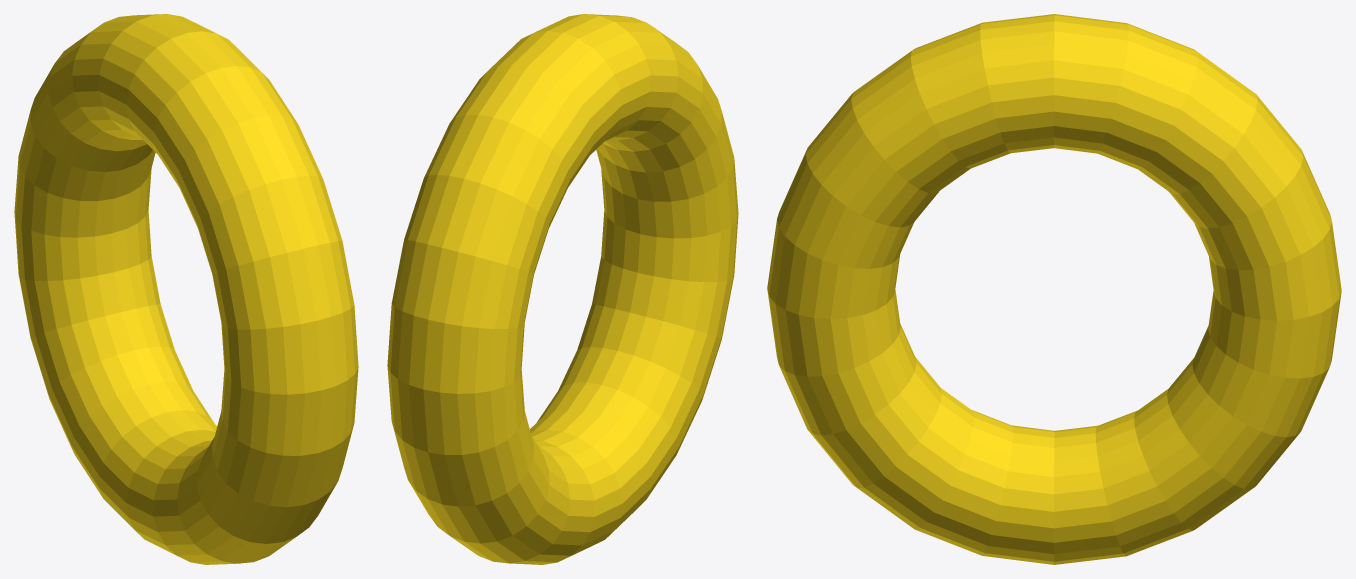
File: tinker.obj
3 views of the same model, side by side, from view 1: azimuth 30°, elevation 25°; view 2: azimuth 150°, elevation 25°; view 3: azimuth 270°, elevation 25° (orthographic). The views are drawn at different scales.
Parts seen in each view (by area): view 1: obj_0; view 2: obj_0; view 3: obj_0.
Boxes of the visible parts, x1,y1,x2,y2 form: obj_0: (14,14,358,564); obj_0: (387,14,738,564); obj_0: (767,14,1341,564).
Bounding box in the file's own units: 25.58 × 102 × 99.
